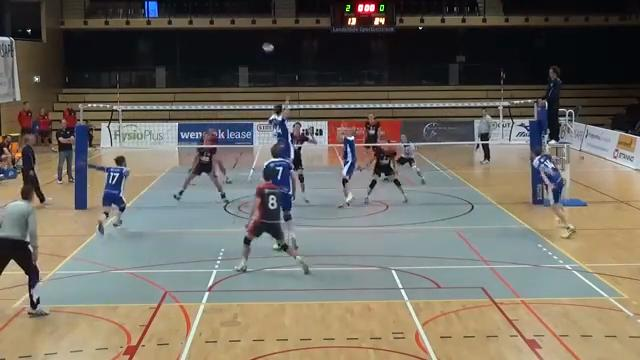Player: (235, 166, 309, 273), (173, 133, 228, 203), (532, 149, 575, 238), (264, 143, 296, 248), (87, 156, 129, 234), (364, 146, 407, 203), (291, 122, 317, 202), (268, 98, 293, 160), (396, 134, 425, 184), (339, 128, 356, 207), (212, 152, 231, 183), (365, 114, 380, 143)
ball: (262, 41, 275, 55)
